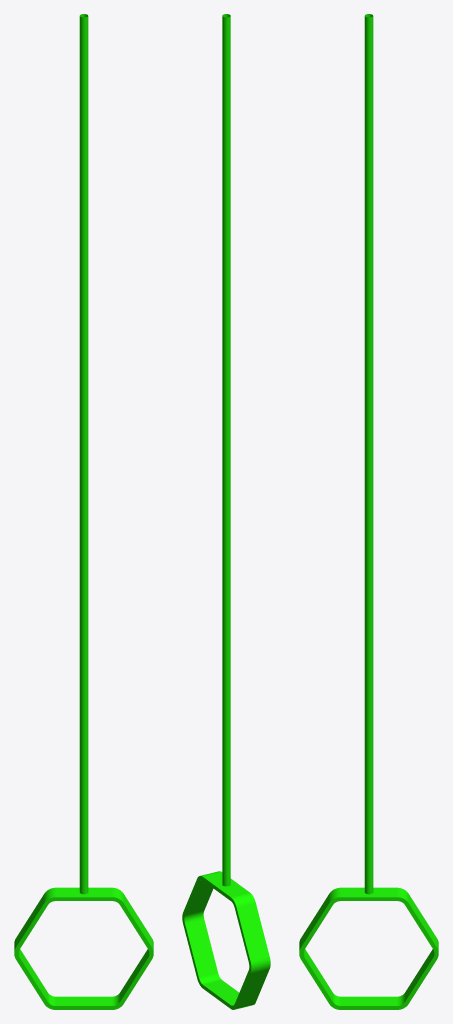
The model's file is cutter3_pencil.fbx.
The picture shows the model from 3 angles, left to right: view 1: azimuth 90°, elevation 25°; view 2: azimuth 210°, elevation 25°; view 3: azimuth 270°, elevation 25°; orthographic projection.
Parts seen in each view (by area): view 1: Cutter3_Pencil; view 2: Cutter3_Pencil; view 3: Cutter3_Pencil.
Boxes of the visible parts, <box> form: Cutter3_Pencil: <box>14,14,153,1009</box>; Cutter3_Pencil: <box>182,14,270,1009</box>; Cutter3_Pencil: <box>299,14,438,1009</box>.
Size of the model in its own units: 16.77 by 816 by 104.
